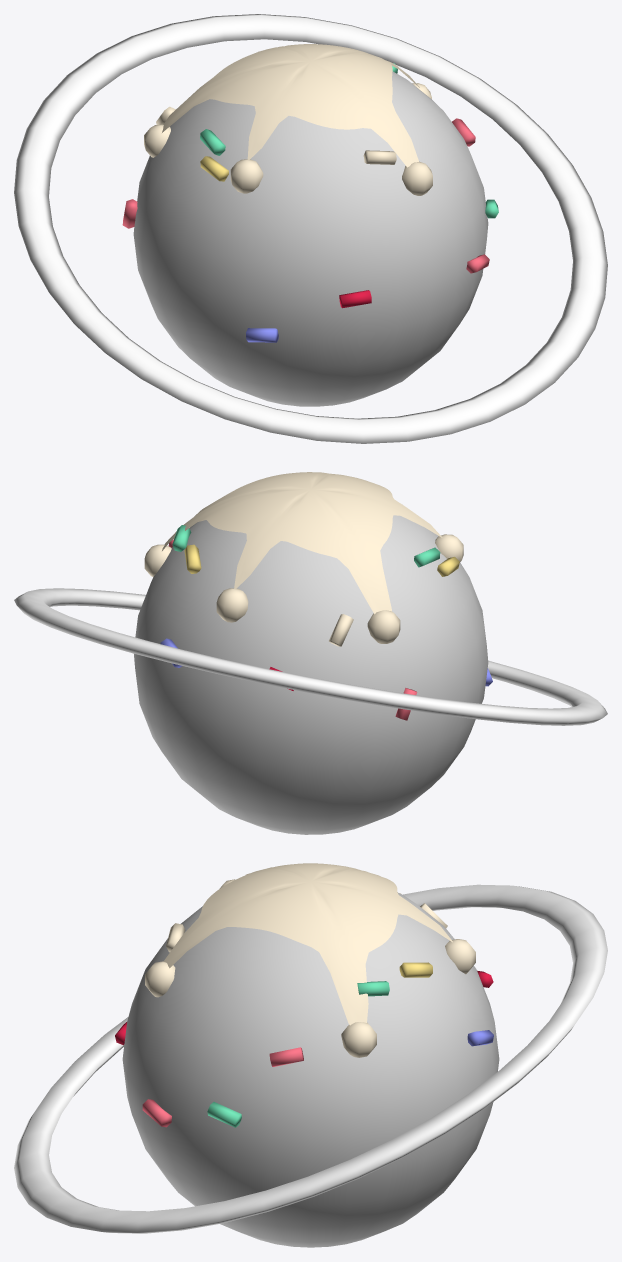
The model's file is music-planet.glb.
3 views of the same model, one above another, from view 1: azimuth 30°, elevation 25°; view 2: azimuth 150°, elevation 25°; view 3: azimuth 270°, elevation 25° (orthographic). The views are drawn at different scales.
Visible parts, largest first — view 1: music-planet; view 2: music-planet; view 3: music-planet.
Part boxes in pixels (x1,y1,x2,y2): music-planet: (14,14,607,443); music-planet: (14,472,607,834); music-planet: (14,863,607,1247).
Bounding box in the file's own units: 1.7 × 1.02 × 1.58.
Materials: 3 (1 with a texture image).
